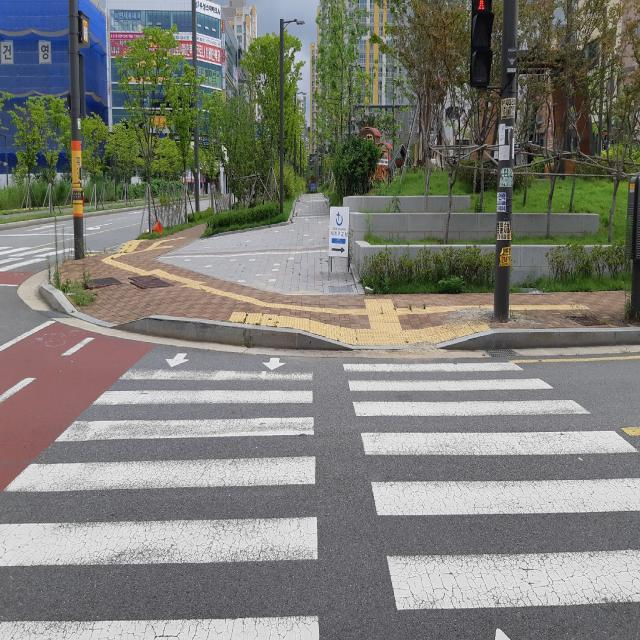횡단보도: (0, 351, 640, 639)
